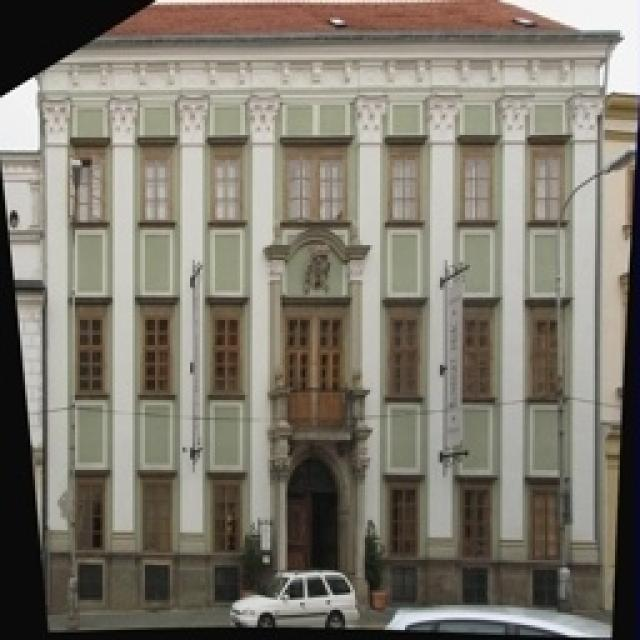building: (27, 5, 615, 630)
